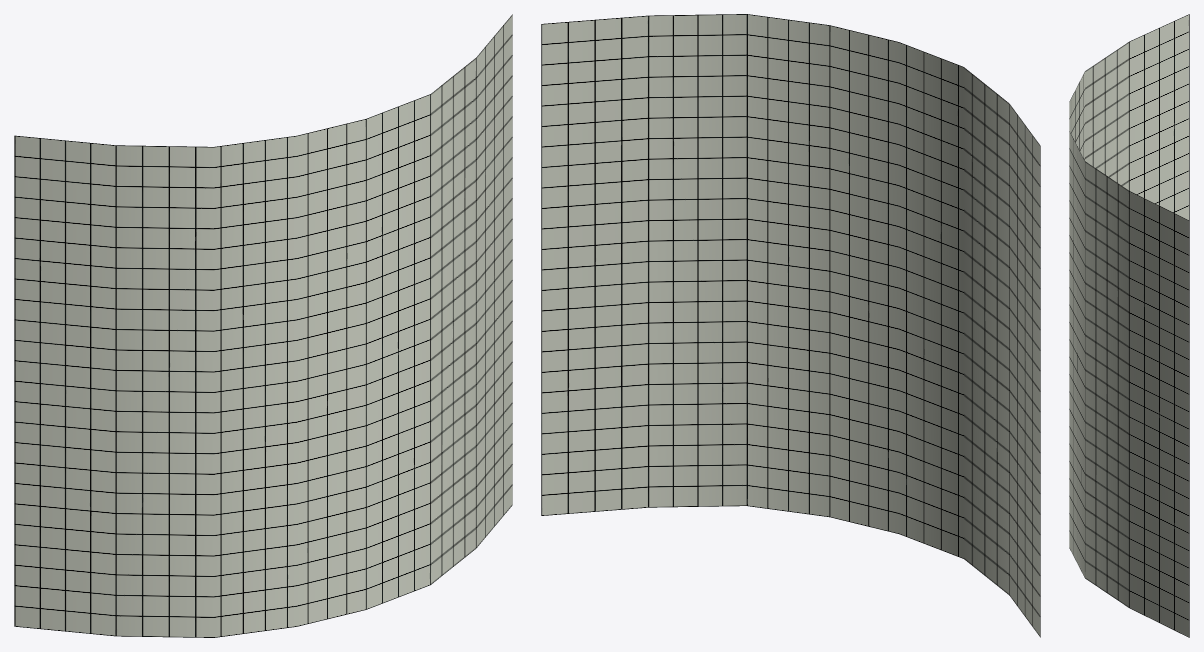
The model's file is Wall_curved02.fbx.
3 renders of one model, left to right at view 1: azimuth 30°, elevation 25°; view 2: azimuth 150°, elevation 25°; view 3: azimuth 270°, elevation 25°, orthographic. The views are drawn at different scales.
Visible parts, largest first — view 1: Wall_curved02; view 2: Wall_curved02; view 3: Wall_curved02.
Boxes of the visible parts, left/top/right/bottom form: Wall_curved02: left=14, top=14, right=512, bottom=637; Wall_curved02: left=541, top=14, right=1040, bottom=637; Wall_curved02: left=1069, top=14, right=1189, bottom=637.
Size of the model in its own units: 425 by 400 by 105.
